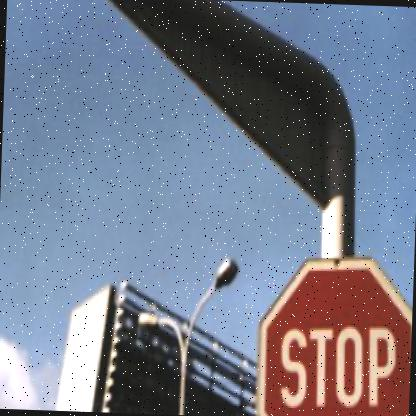stop: (253, 250, 414, 415)
